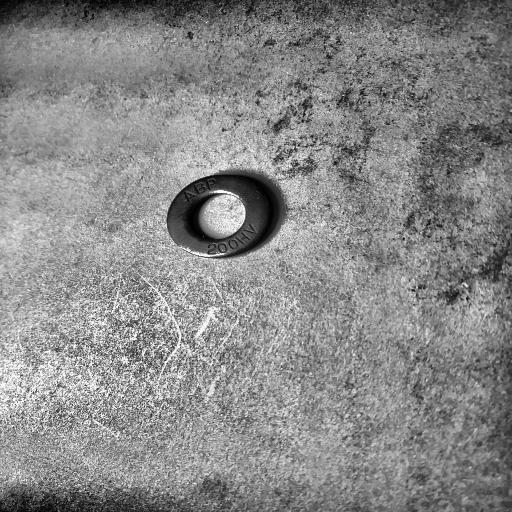Washer: (166, 172, 283, 258)
